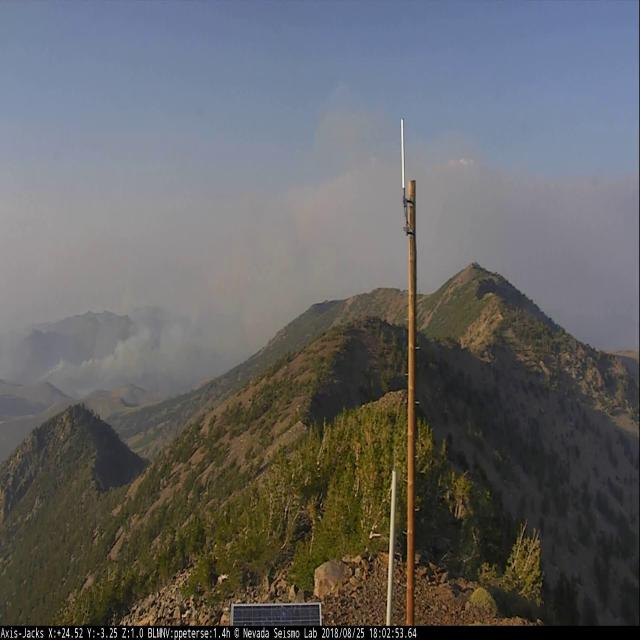smoke: (38, 136, 636, 389)
